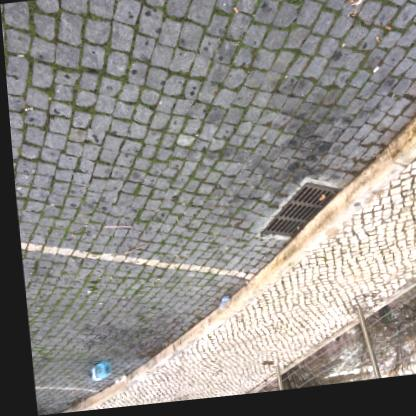Plastic: (81, 362, 104, 382), (213, 299, 224, 312)
Waste: (232, 12, 237, 19), (374, 44, 378, 50), (383, 34, 389, 38), (372, 161, 377, 165), (66, 234, 71, 238), (340, 51, 344, 55), (151, 211, 155, 214), (149, 281, 154, 283), (100, 273, 103, 276), (240, 285, 243, 288), (171, 258, 174, 261), (247, 190, 250, 193), (92, 279, 96, 281), (93, 304, 97, 306), (67, 260, 69, 263), (105, 278, 107, 281), (117, 299, 120, 301), (147, 286, 149, 289), (213, 301, 215, 304), (236, 274, 239, 276), (169, 258, 172, 260), (174, 317, 176, 319), (92, 293, 95, 294), (86, 322, 89, 323), (184, 286, 187, 287), (120, 367, 123, 368), (222, 240, 224, 241)
